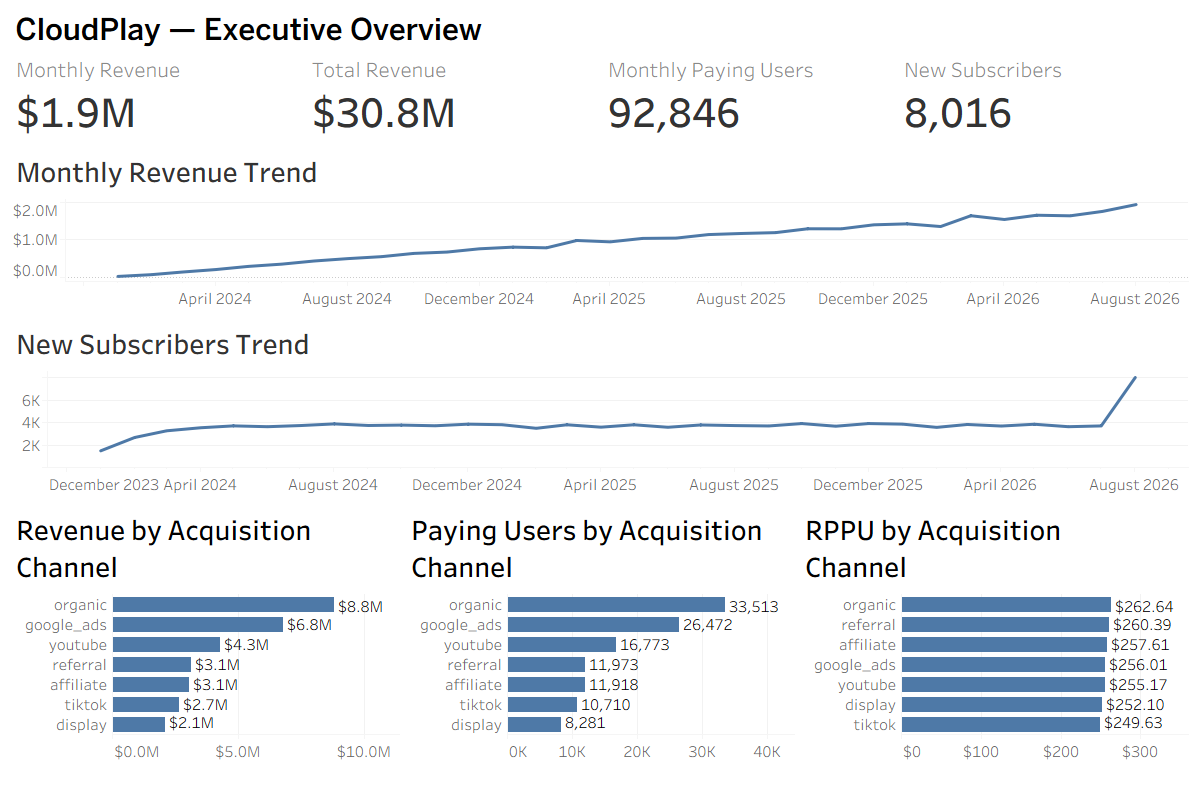

What the dashboard file says about the page in this screenshot:
{"tool":"tableau","page":{"name":"Executive Overview","canvas":[1200,800],"ordinal":0},"visuals":[{"type":"title","box":[8,8,1184,44]},{"type":"worksheet","title":"KPI - Monthly Revenue","mark":"Automatic","box":[8,52,296,91]},{"type":"worksheet","title":"KPI - Total Revenue","mark":"Automatic","box":[304,52,296,91]},{"type":"worksheet","title":"KPI - Paying Users","mark":"Automatic","box":[600,52,296,91]},{"type":"worksheet","title":"KPI - New Subscribers","mark":"Automatic","box":[896,52,296,91]},{"type":"worksheet","title":"Monthly Revenue","mark":"Automatic","rows":["revenue"],"cols":["mth"],"box":[8,143,1184,172]},{"type":"worksheet","title":"New Subscribers Trend","mark":"Automatic","rows":["new_subscribers"],"cols":["mth"],"box":[8,315,1184,186]},{"type":"worksheet","title":"Revenue by Channel","mark":"Automatic","rows":["acquisition_channel"],"cols":["revenue"],"box":[8,501,394.7,291]},{"type":"worksheet","title":"Paying Users by Channel","mark":"Bar","rows":["acquisition_channel"],"cols":["paying_users"],"box":[402.7,501,394.7,291]},{"type":"worksheet","title":"RPPU by Acquisition Channel.","mark":"Automatic","rows":["acquisition_channel"],"cols":["rppu"],"box":[797.3,501,394.7,291]}]}

Visuals, with their boxes in screenshot pixels (x1, y1, x2, y2), scaled from the page's 1200x800 canvas onto the 1200x800 screenshot:
title: [8, 8, 1192, 52]
"KPI - Monthly Revenue" worksheet: [8, 52, 304, 143]
"KPI - Total Revenue" worksheet: [304, 52, 600, 143]
"KPI - Paying Users" worksheet: [600, 52, 896, 143]
"KPI - New Subscribers" worksheet: [896, 52, 1192, 143]
"Monthly Revenue" worksheet: [8, 143, 1192, 315]
"New Subscribers Trend" worksheet: [8, 315, 1192, 501]
"Revenue by Channel" worksheet: [8, 501, 403, 792]
"Paying Users by Channel" worksheet (Bar marks): [403, 501, 797, 792]
"RPPU by Acquisition Channel." worksheet: [797, 501, 1192, 792]
